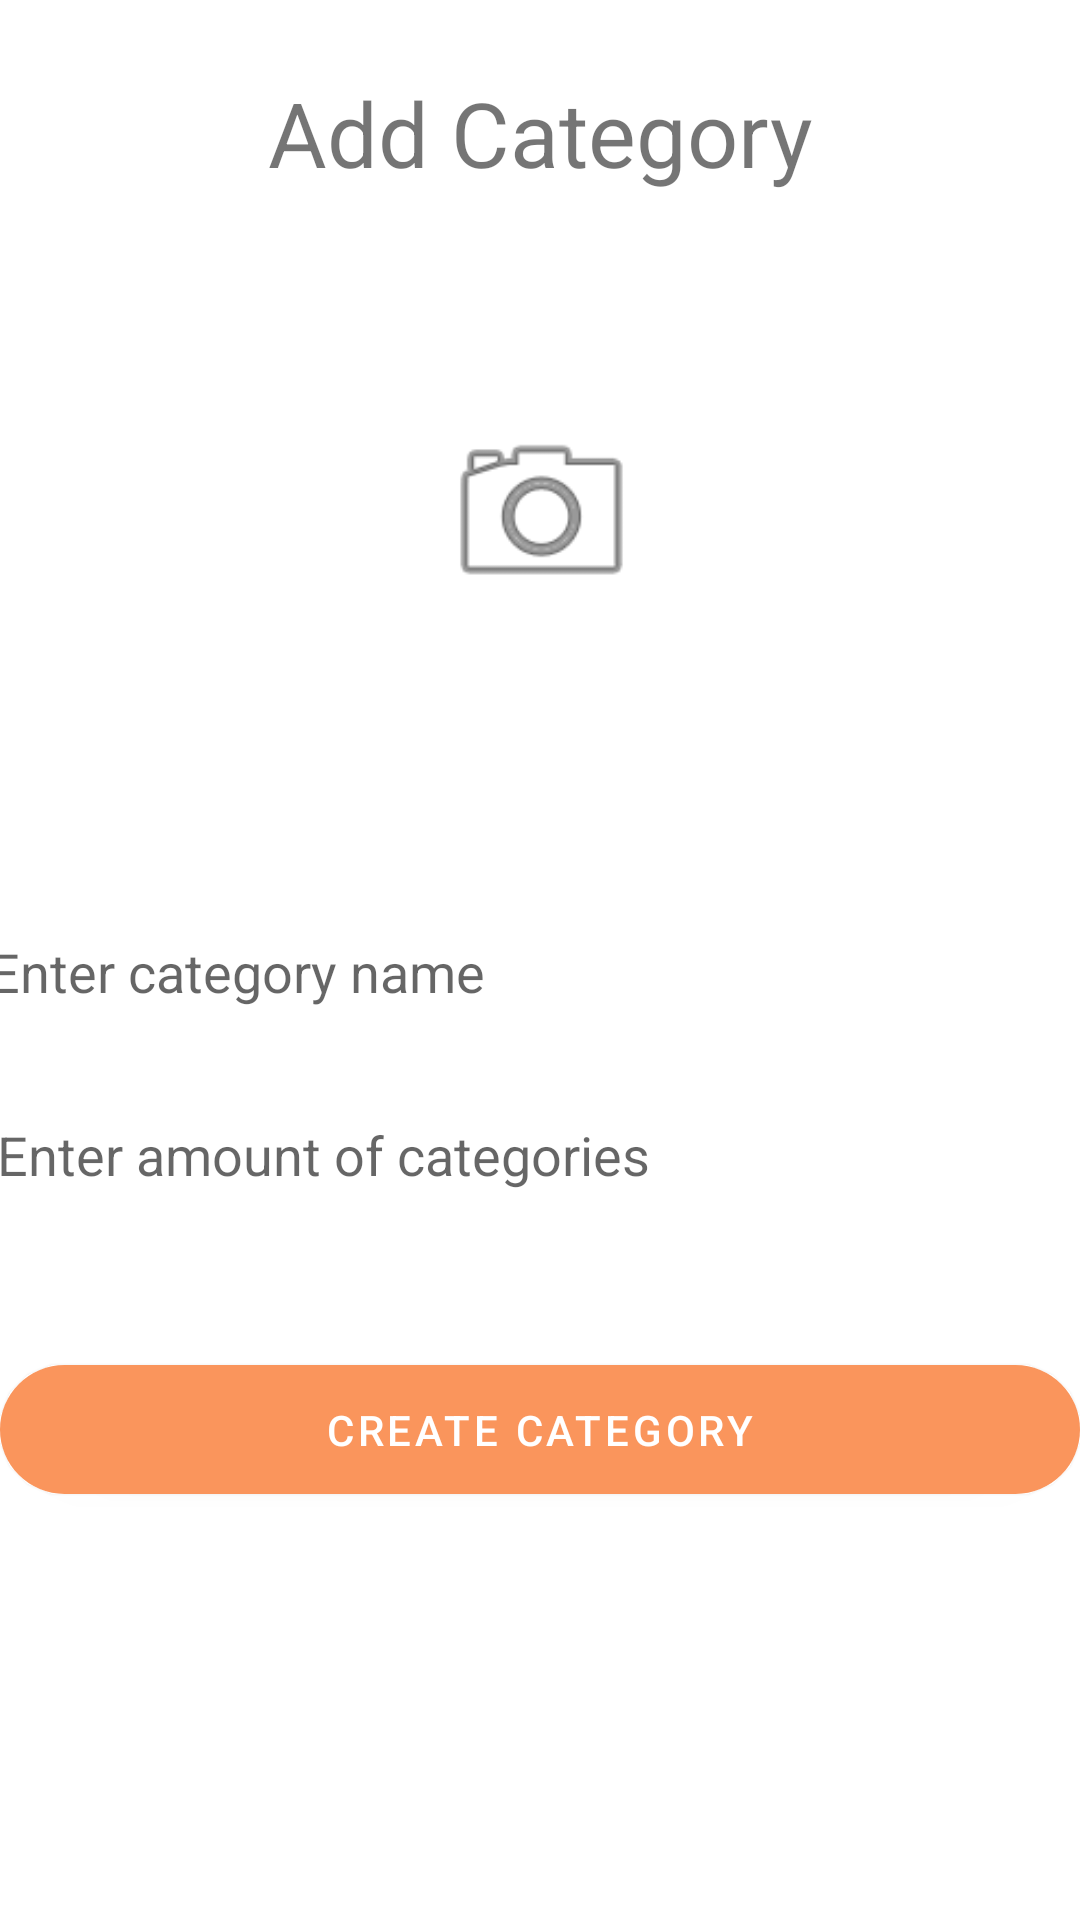

Locate icon controls on the screen. Image size 1080px×1920px, boxes as detection(x1, y1, x2, y2).
camera: detection(460, 445, 623, 575)
